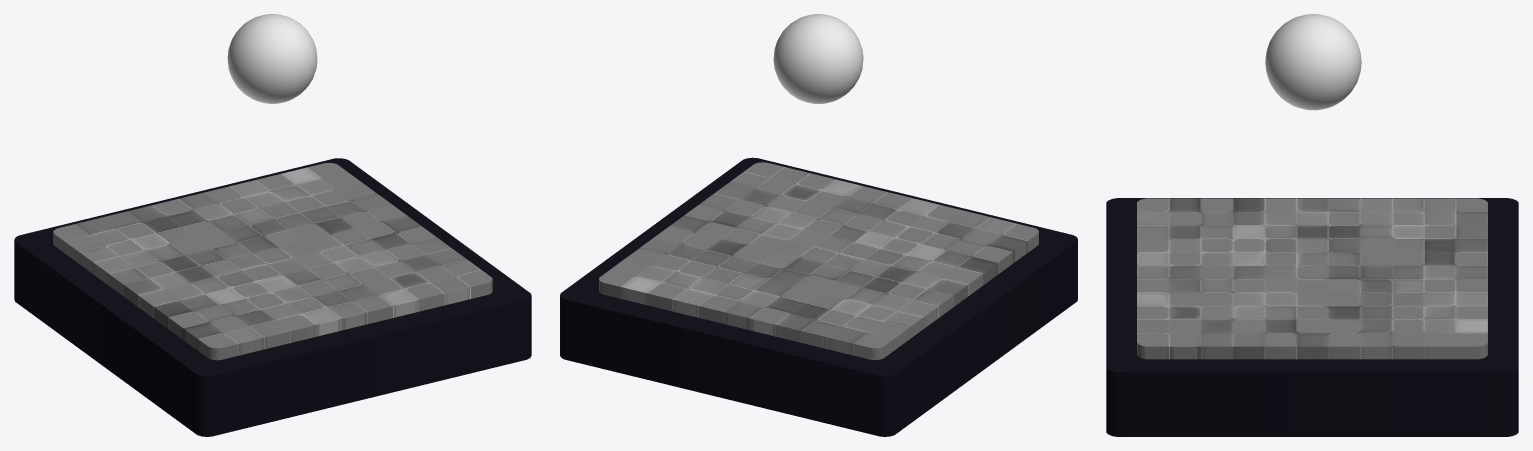
File: level.FBX
The picture shows the model from 3 angles, left to right: view 1: azimuth 30°, elevation 25°; view 2: azimuth 150°, elevation 25°; view 3: azimuth 270°, elevation 25°; orthographic projection. The views are drawn at different scales.
Parts seen in each view (by area): view 1: Box01, Box03, Sphere01; view 2: Box01, Box03, Sphere01; view 3: Box01, Box03, Sphere01.
Boxes of the visible parts, box(x1,y1,x2,y2) form: Box01: box(53, 162, 492, 360); Box03: box(14, 158, 531, 436); Sphere01: box(227, 14, 317, 103); Box01: box(599, 162, 1038, 360); Box03: box(560, 157, 1077, 436); Sphere01: box(773, 14, 863, 103); Box01: box(1137, 198, 1487, 359); Box03: box(1106, 198, 1518, 436); Sphere01: box(1265, 14, 1361, 110).
Size of the model in its own units: 162 by 144 by 162.
